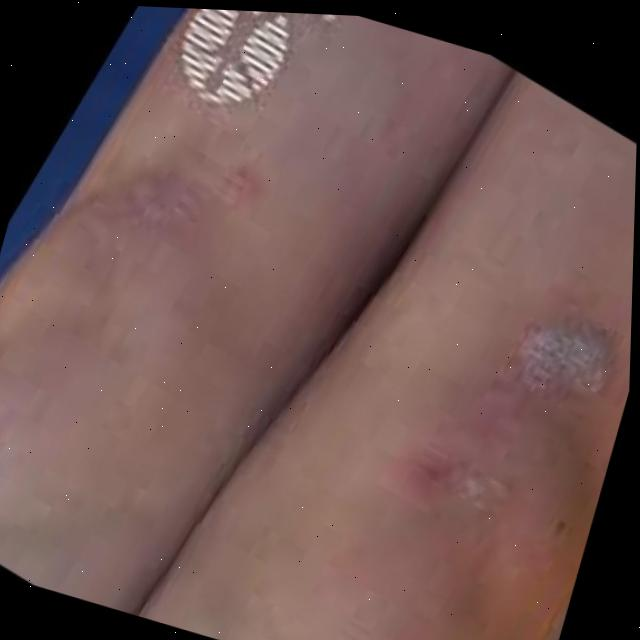Eczema: (383, 441, 538, 575), (481, 293, 632, 426), (67, 160, 238, 275)
